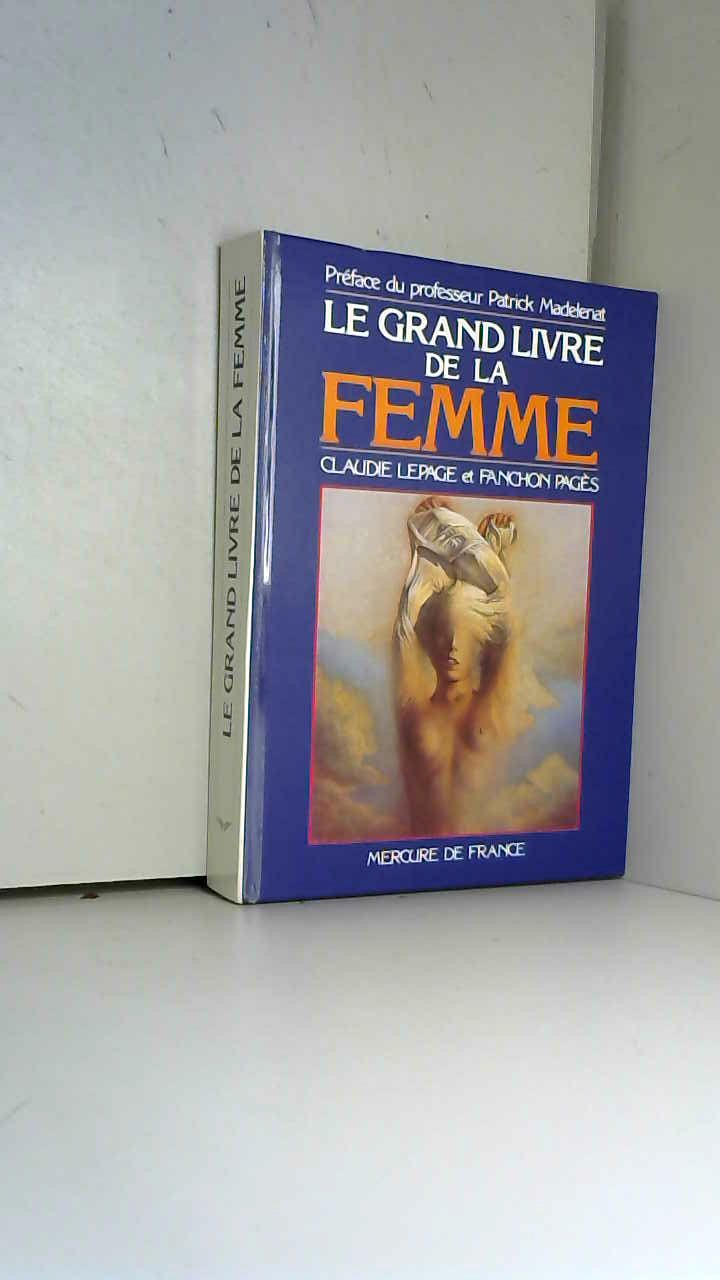book: (180, 200, 719, 925)
